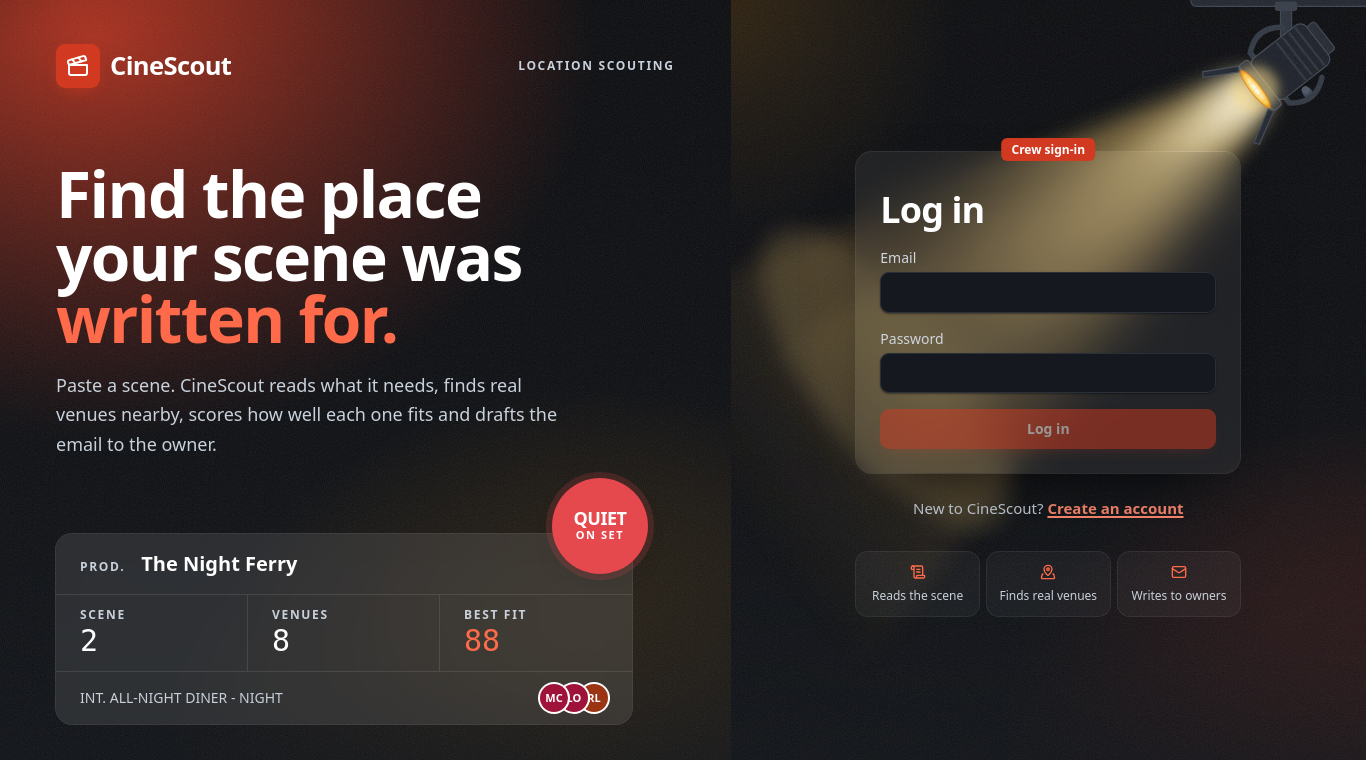
Test case: the schedule of a project › is a tab that lays the scenes out by shoot day with their confirmed venues and what is missing
Type "ada@example.com" into the field labelled "Email" at (1048, 293), box [880,272,1216,313]
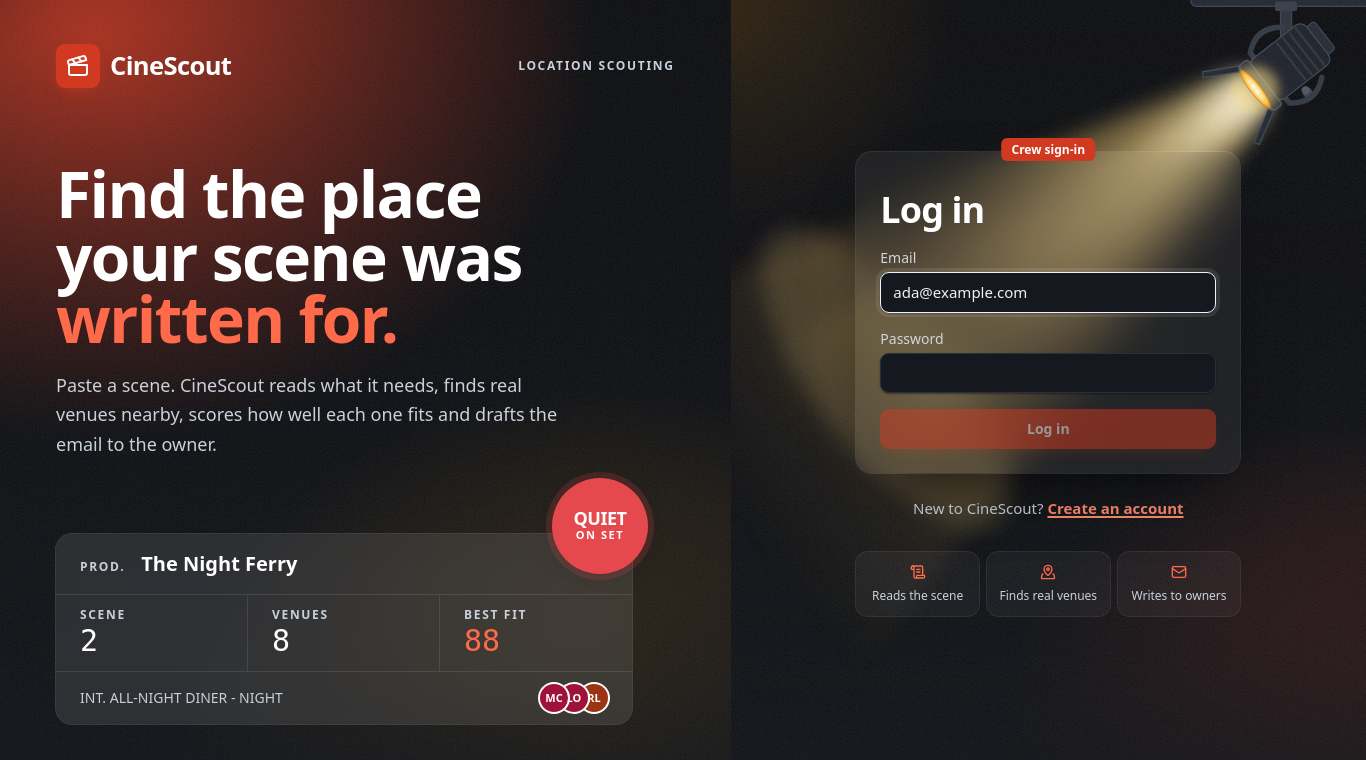
Type "a-long-password" into the password field labelled "Password" at (1048, 373), box [880,353,1216,393]
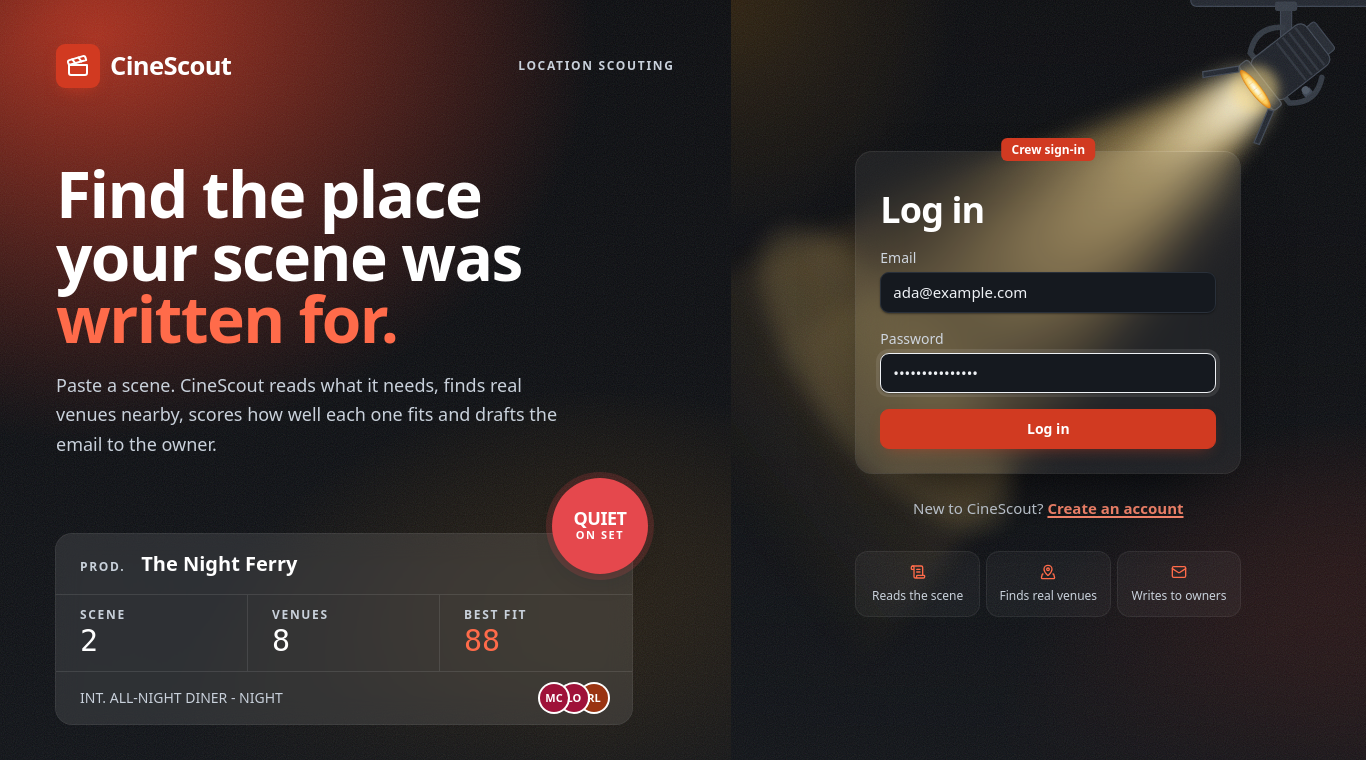
Click the button "Log in" at (1048, 429), box [880,409,1216,449]
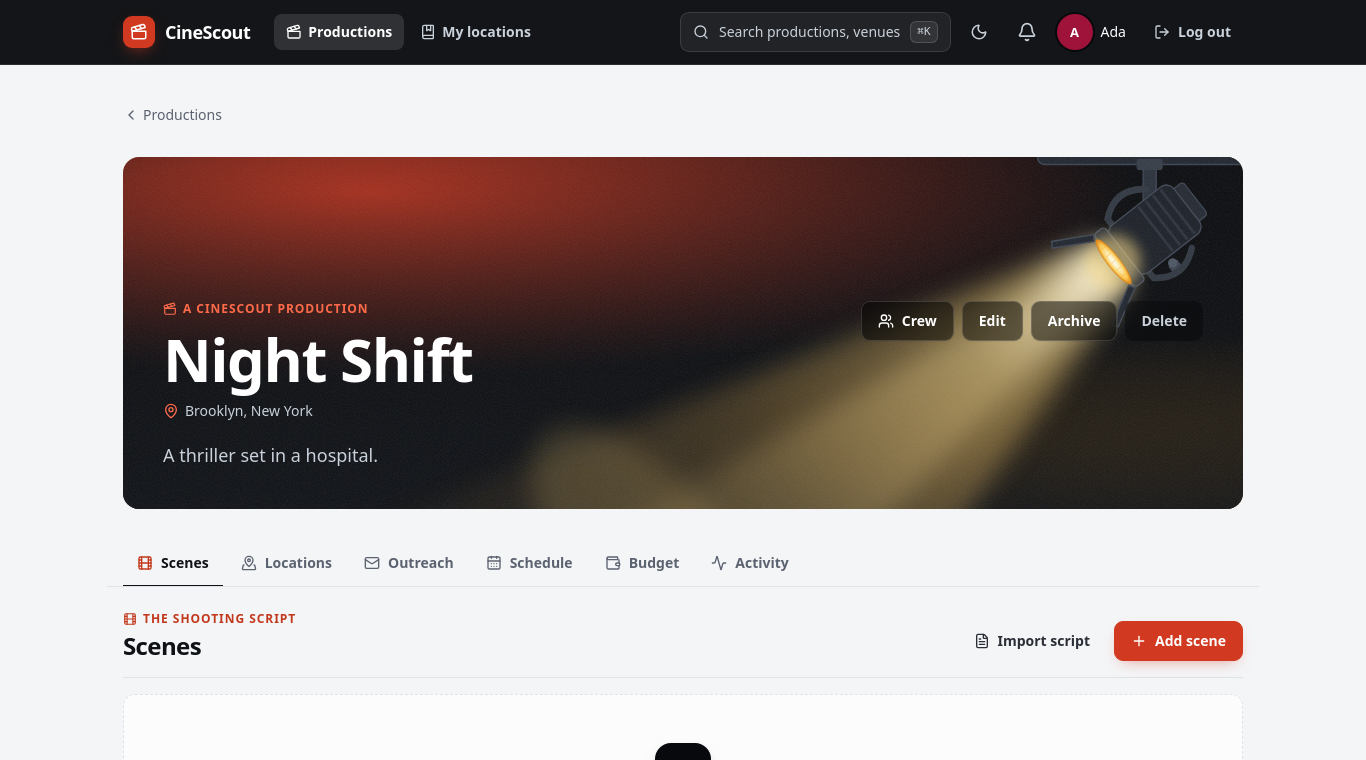
Click the tab "Schedule" at (529, 564), box [472,541,587,587]
(page scrolled)
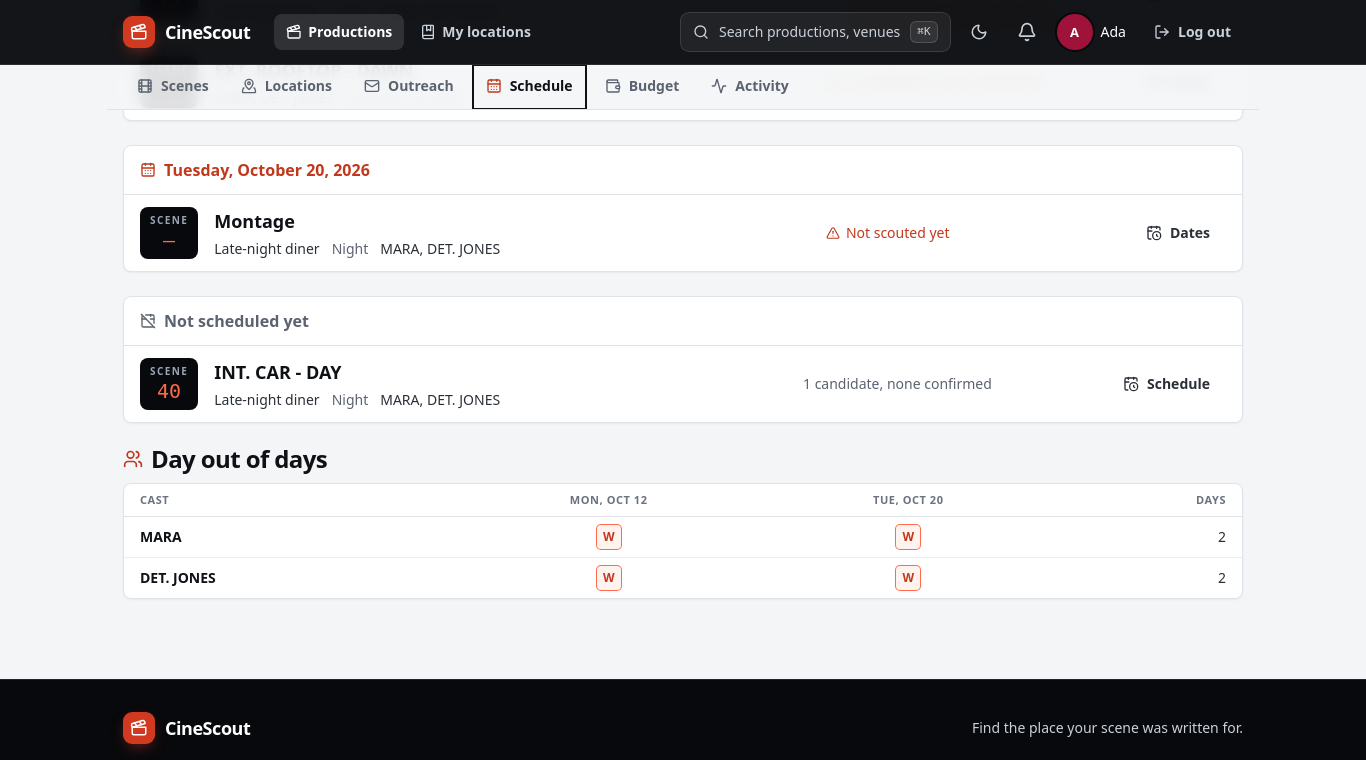
Expected: the 1st list item shows "Late-night diner", [214,1,320,20]
Now the text "Not scouted yet" is shown, box [826,223,950,242]
Now the text "1 candidate, none confirmed" is shown, box [803,374,992,393]
